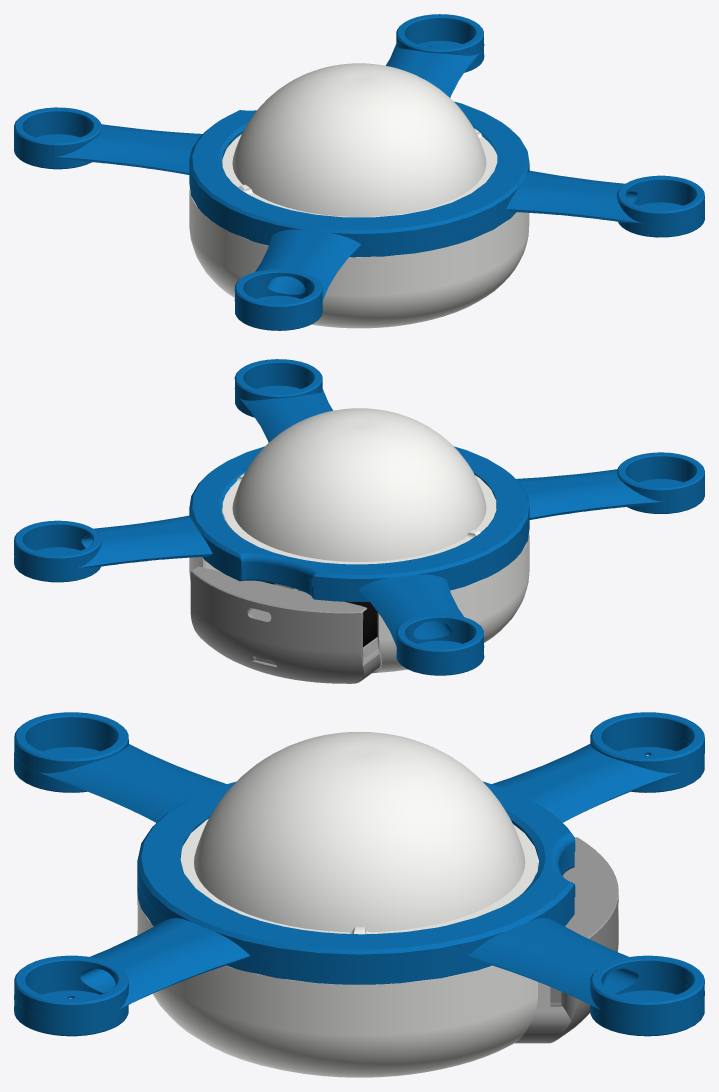
Rendered from Drone234.fbx.
3 views of the same model, one above another, from view 1: azimuth 30°, elevation 25°; view 2: azimuth 150°, elevation 25°; view 3: azimuth 270°, elevation 25° (orthographic). The views are drawn at different scales.
Parts seen in each view (by area): view 1: Body1 (×4); view 2: Body1 (×4), Bottom, Body10; view 3: Body1 (×4), Bottom.
Boxes of the visible parts, box(x1,y1,x2,y2) form: Body1 (×4): box(14, 14, 704, 330); Body1 (×4): box(14, 359, 704, 675); Bottom: box(190, 566, 380, 683); Body10: box(345, 601, 377, 646); Body1 (×4): box(14, 712, 704, 1077); Bottom: box(514, 837, 618, 1043).
Size of the model in its own units: 187 by 76.5 by 187.
